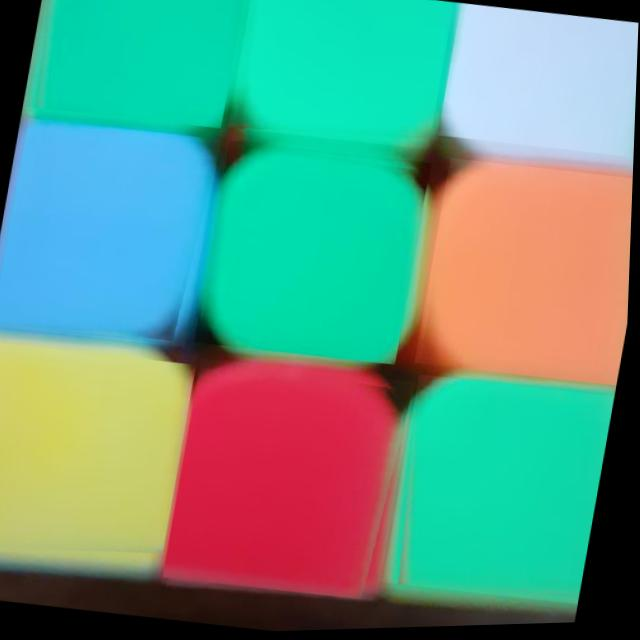Blue: (0, 115, 223, 354)
Green: (386, 372, 618, 613), (197, 138, 435, 372), (228, 0, 455, 157), (25, 0, 246, 134)
Orange: (416, 156, 635, 394)
Red: (167, 355, 419, 609)
White: (438, 2, 640, 167)
Yellow: (0, 336, 199, 574)
